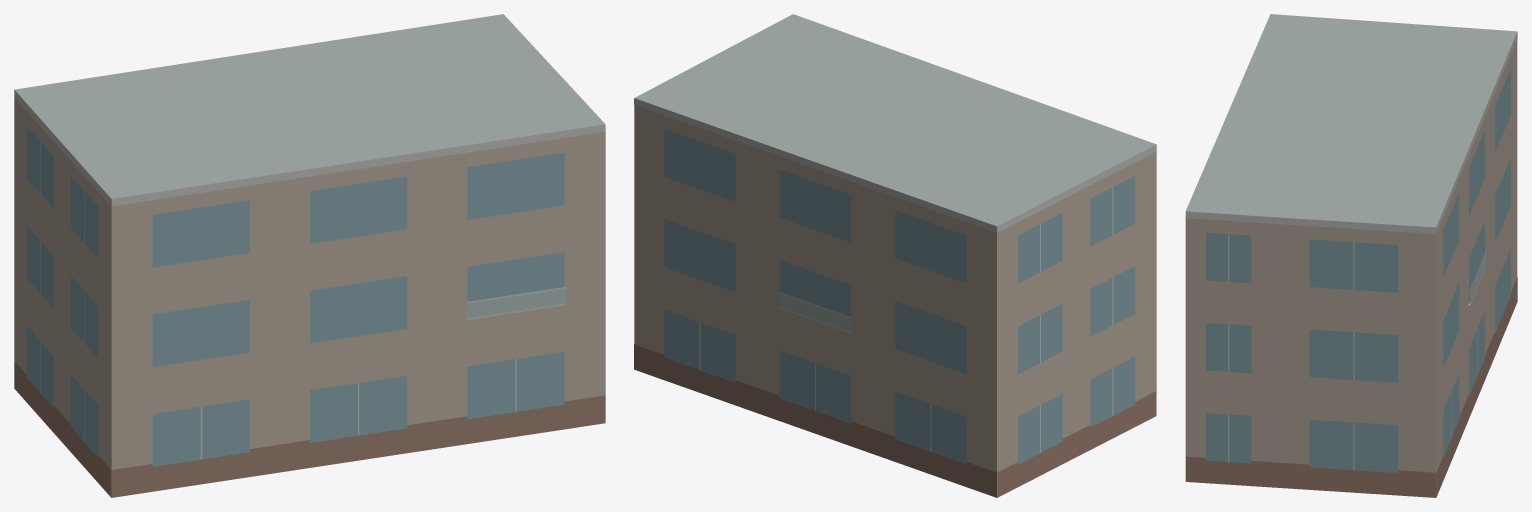
File: survey-upis-32942733.glb
3 views of the same model, side by side, from view 1: azimuth 30°, elevation 25°; view 2: azimuth 150°, elevation 25°; view 3: azimuth 270°, elevation 25° (orthographic). The views are drawn at different scales.
Visible parts, largest first — view 1: survey-upis-32942733.tmp; view 2: survey-upis-32942733.tmp; view 3: survey-upis-32942733.tmp.
Boxes of the visible parts, x1,y1,x2,y2 form: survey-upis-32942733.tmp: (14, 14, 605, 497); survey-upis-32942733.tmp: (634, 14, 1156, 497); survey-upis-32942733.tmp: (1185, 14, 1517, 497).
Bounding box in the file's own units: 16.6 × 9.8 × 10.91.
